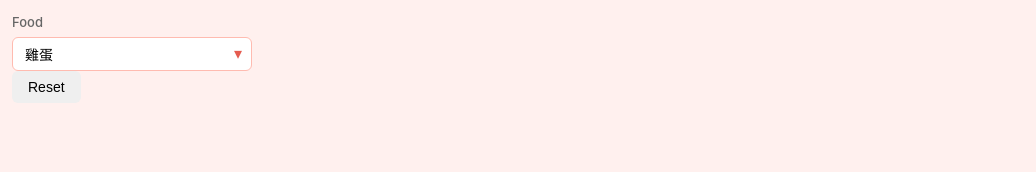
Test case: SearchableSelect › restores the selection on Escape, Tab, and outside click without committing a draft
Replace the text in the dropdown with "Greek" at (132, 54), box [12,37,252,71]
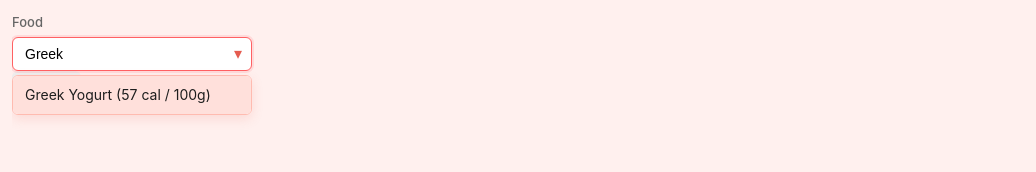
Press Escape
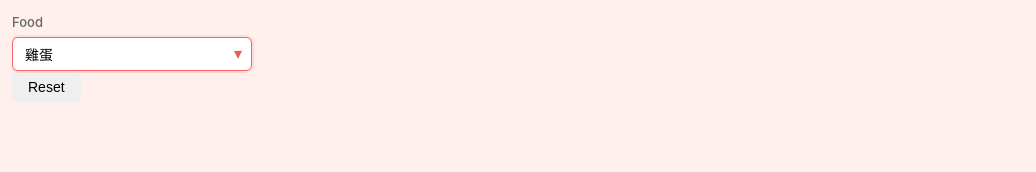
Check: the dropdown holds "雞蛋"
Check: the dropdown is collapsed
Replace the text in the dropdown with "unknown" at (132, 54), box [12,37,252,71]
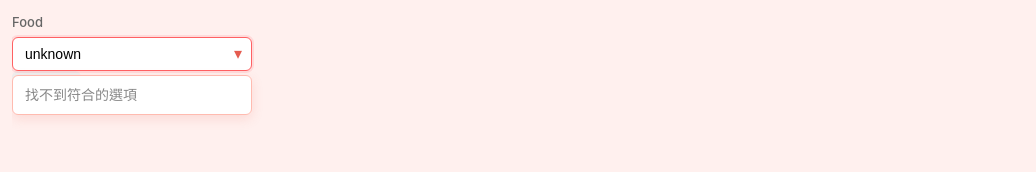
Press Tab
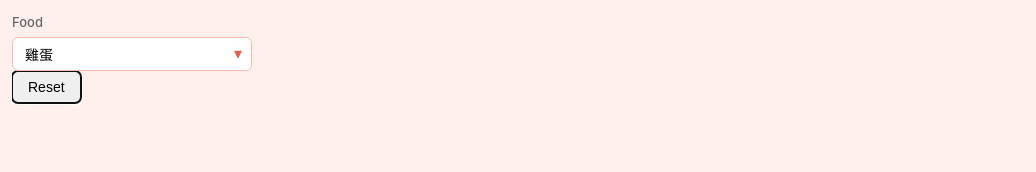
Check: the dropdown holds "雞蛋"
Replace the text in the dropdown with "Greek" at (132, 54), box [12,37,252,71]
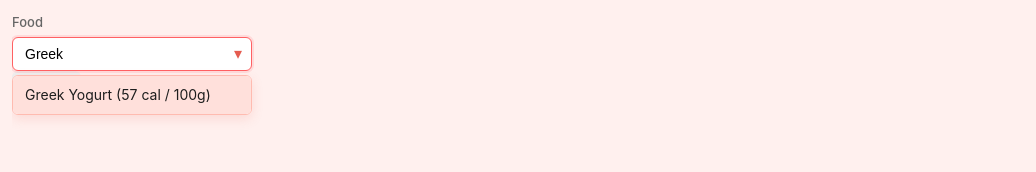
Click the element showing "Food ▾ Reset Greek Yogurt (57 cal / 100g)".
click(524, 57)  # box [12,12,1035,103]
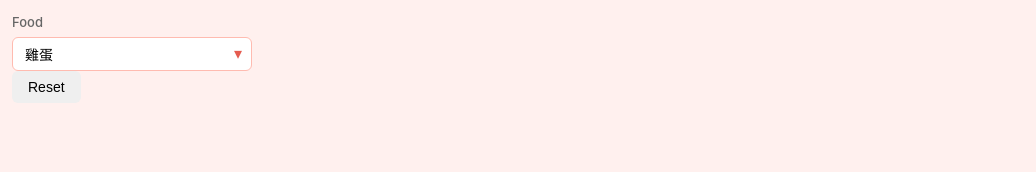
Check: the dropdown holds "雞蛋", box [12,37,252,71]
